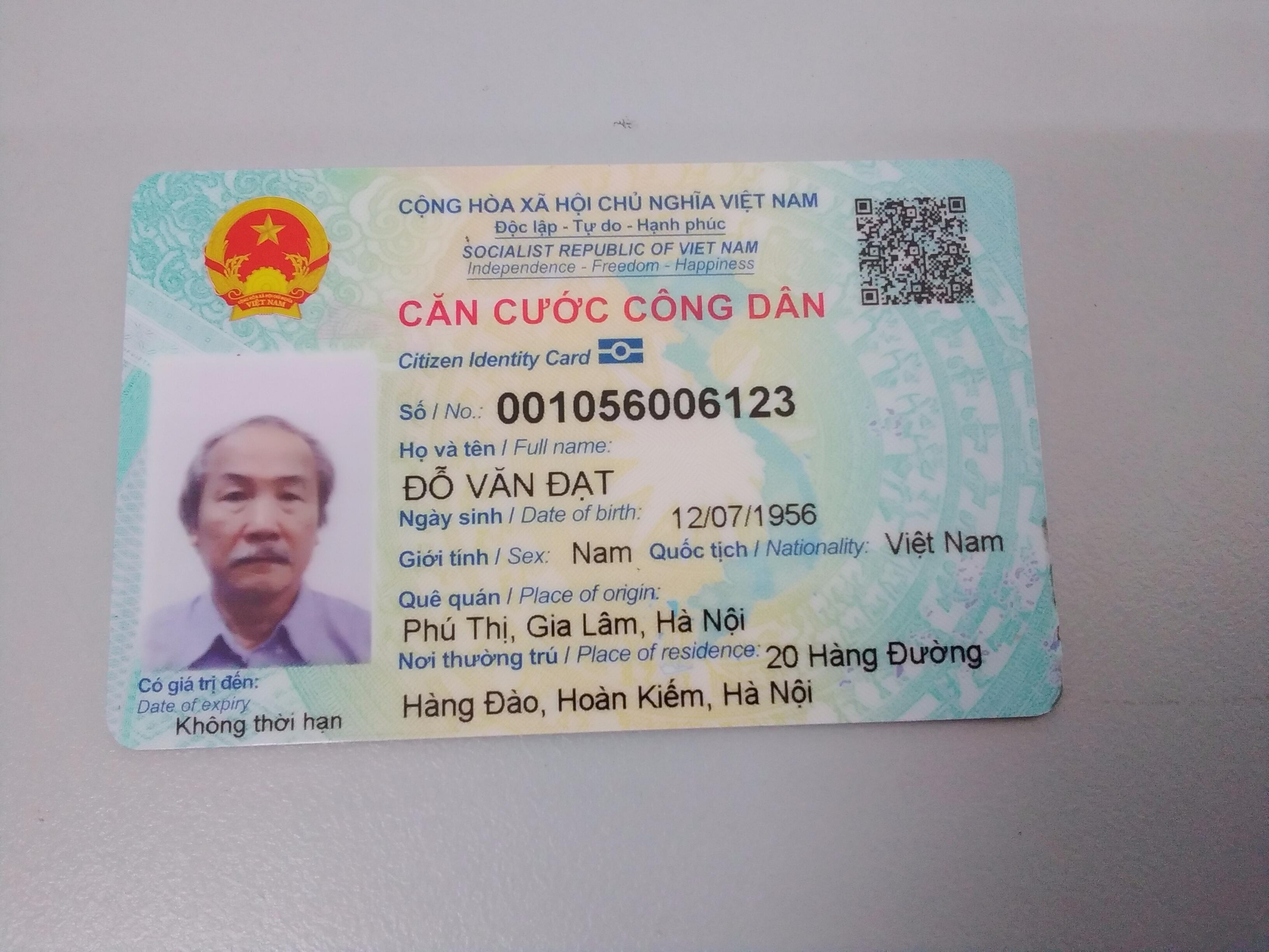ID: (488, 379, 805, 430)
birth: (655, 495, 833, 534)
name: (390, 458, 622, 505)
place: (389, 596, 763, 648)
residence: (391, 668, 829, 726), (761, 621, 1003, 678)
